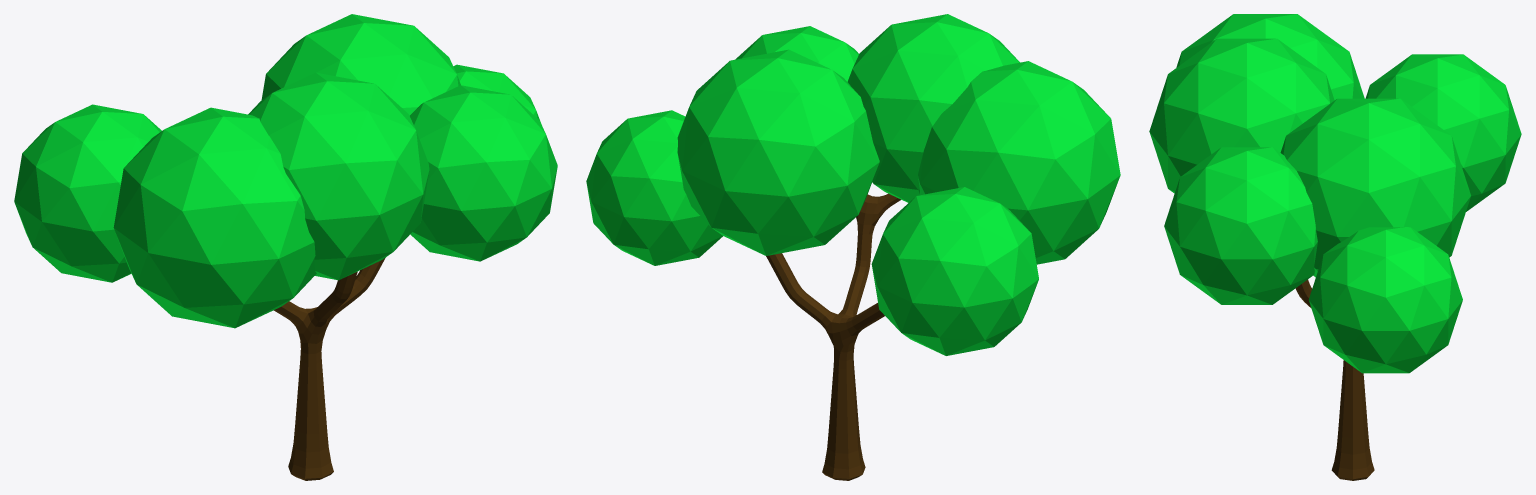
File: tree.fbx
3 renders of one model, left to right at view 1: azimuth 30°, elevation 25°; view 2: azimuth 150°, elevation 25°; view 3: azimuth 270°, elevation 25°, orthographic. The views are drawn at different scales.
Parts seen in each view (by area): view 1: Icosphere.005, Icosphere.003, Icosphere.002, Icosphere.004, Icosphere.001, Plane, Icosphere; view 2: Icosphere.001, Icosphere.005, Icosphere.004, Icosphere.003, Icosphere, Plane, Icosphere.002; view 3: Icosphere.001, Icosphere.002, Icosphere, Icosphere.003, Icosphere.004, Icosphere.005, Plane.
Part boxes in pixels (x1,y1,x2,y2): Icosphere.005: (113, 107, 316, 328); Icosphere.003: (248, 72, 429, 280); Icosphere.002: (410, 85, 557, 261); Icosphere.004: (14, 104, 161, 282); Icosphere.001: (261, 14, 460, 115); Plane: (274, 257, 385, 480); Icosphere: (453, 64, 540, 122); Icosphere.001: (677, 49, 879, 255); Icosphere.005: (918, 61, 1120, 264); Icosphere.004: (871, 187, 1038, 355); Icosphere.003: (847, 14, 1019, 202); Icosphere: (586, 110, 722, 265); Plane: (766, 193, 900, 480); Icosphere.002: (735, 26, 858, 81); Icosphere.001: (1280, 98, 1470, 277); Icosphere.002: (1164, 147, 1317, 304); Icosphere: (1308, 227, 1462, 373); Icosphere.003: (1149, 38, 1334, 193); Icosphere.004: (1365, 54, 1521, 211); Icosphere.005: (1176, 14, 1364, 99); Plane: (1295, 279, 1374, 480).
Bounding box in the file's own units: 1570 × 1396 × 1139.
